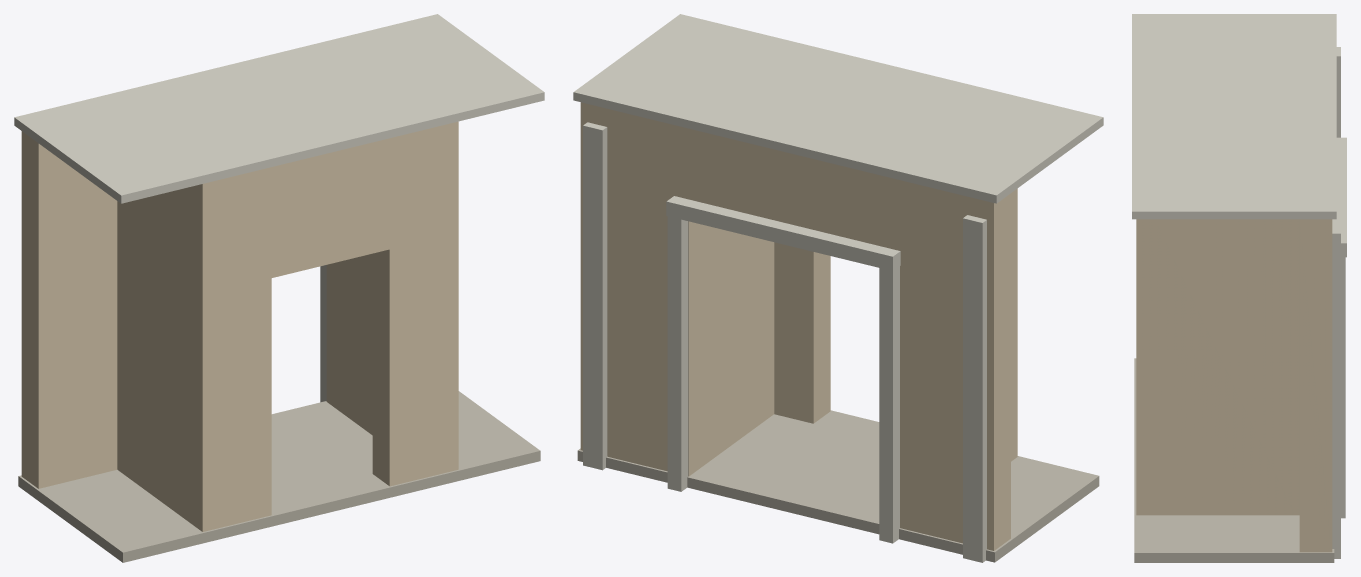
File: mod_facade_recess_a.glb
The picture shows the model from 3 angles, left to right: view 1: azimuth 30°, elevation 25°; view 2: azimuth 150°, elevation 25°; view 3: azimuth 270°, elevation 25°; orthographic projection. The views are drawn at different scales.
Visible parts, largest first — view 1: LOD0; view 2: LOD0; view 3: LOD0.
Part boxes in pixels (x1=…): LOD0: x1=14, y1=14, x2=544, y2=562; LOD0: x1=573, y1=14, x2=1103, y2=562; LOD0: x1=1132, y1=14, x2=1346, y2=562.
Bounding box in the file's own units: 4.3 × 3.58 × 1.98.
